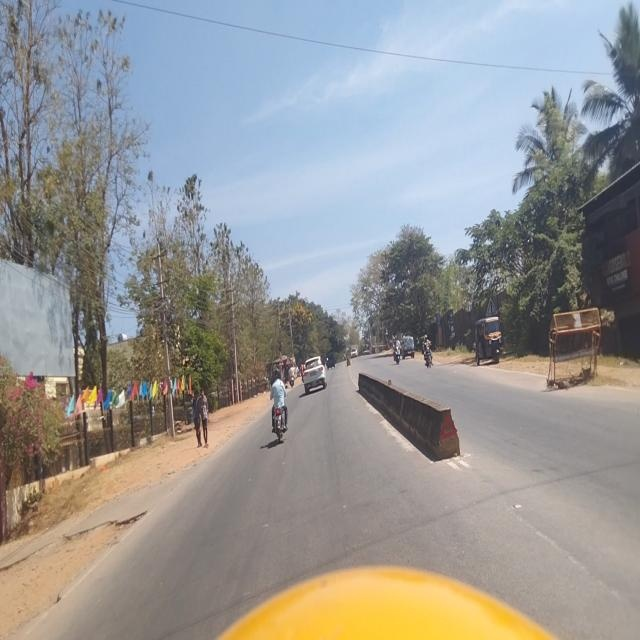bien_nguy_hiem: (279, 357, 283, 366)
